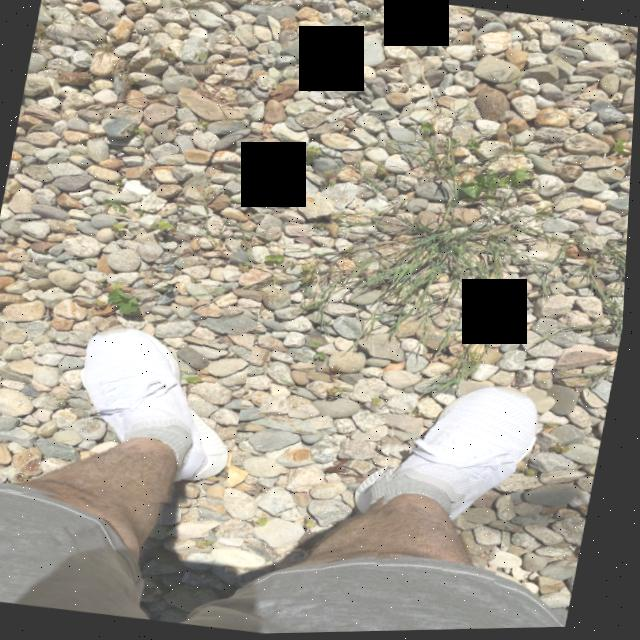shoe: (0, 261, 268, 523), (358, 319, 547, 621)
